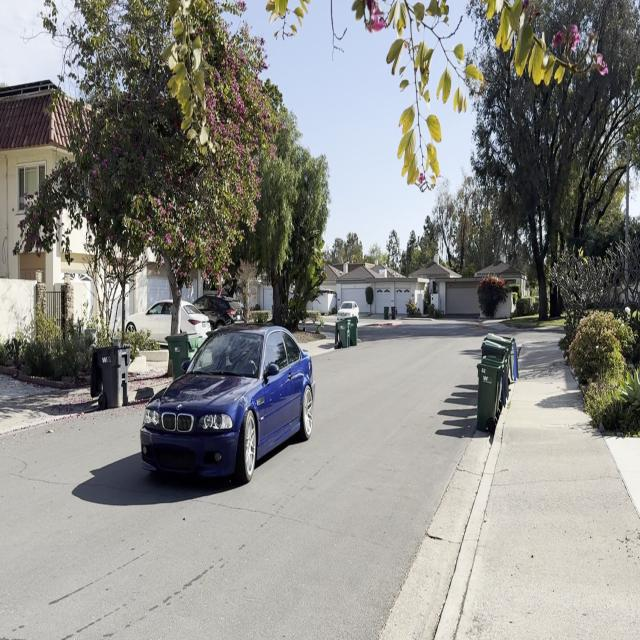Carbeetle: (135, 307, 319, 507)
